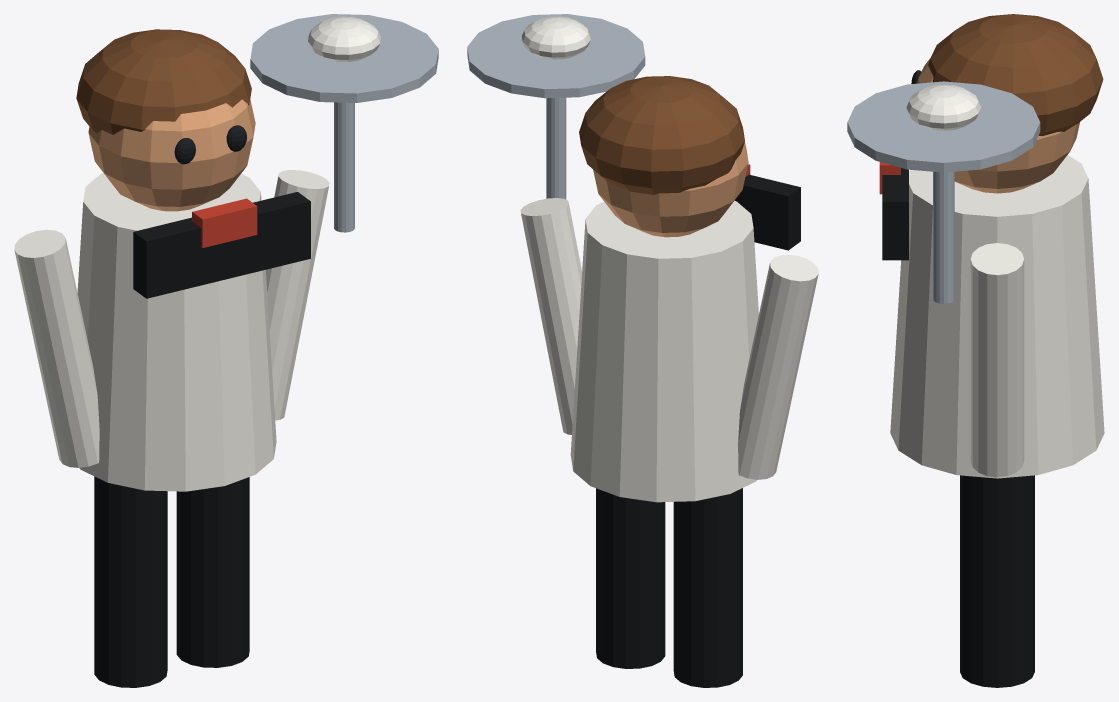
Rendered from waiter-lod0.glb.
3 views of the same model, side by side, from view 1: azimuth 30°, elevation 25°; view 2: azimuth 150°, elevation 25°; view 3: azimuth 270°, elevation 25° (orthographic). The views are drawn at different scales.
Visible parts, largest first — view 1: waiter; view 2: waiter; view 3: waiter.
Part boxes in pixels (left/top/right/bottom): waiter: left=14, top=14, right=438, bottom=687; waiter: left=467, top=14, right=818, bottom=687; waiter: left=847, top=14, right=1104, bottom=687.
Size of the model in its own units: 0.838 by 1.3 by 0.48.
